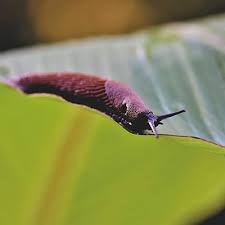slug: (20, 69, 185, 144)
